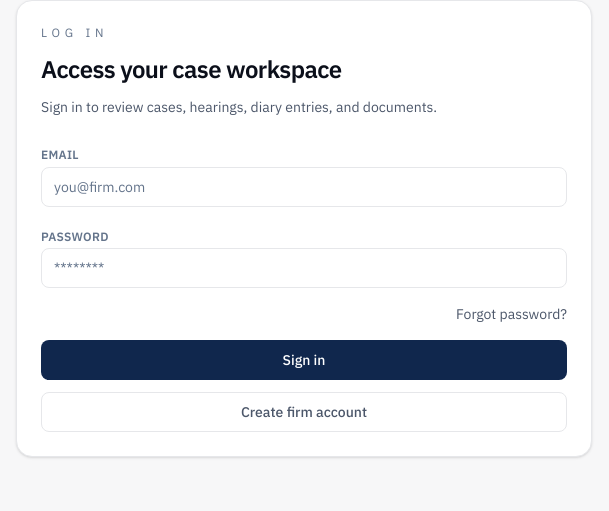
Test case: login page › shows an error and stays on the page when sign-in fails
Type "rahim@example.test" into the field labelled "Email" at [304, 187], box [41, 167, 567, 207]
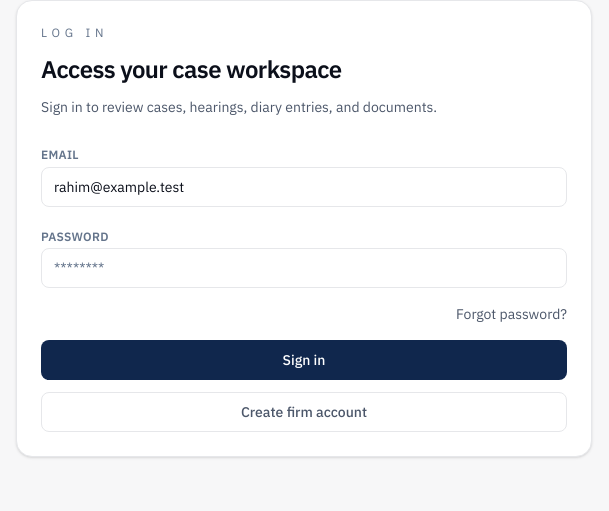
Type "wrong" into the password field labelled "Password" at [304, 268], box [41, 248, 567, 288]
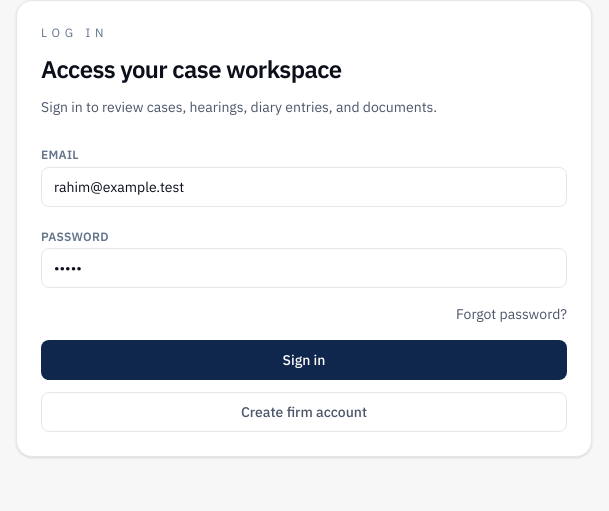
Click the button "Sign in" at [304, 360], box [41, 340, 567, 380]
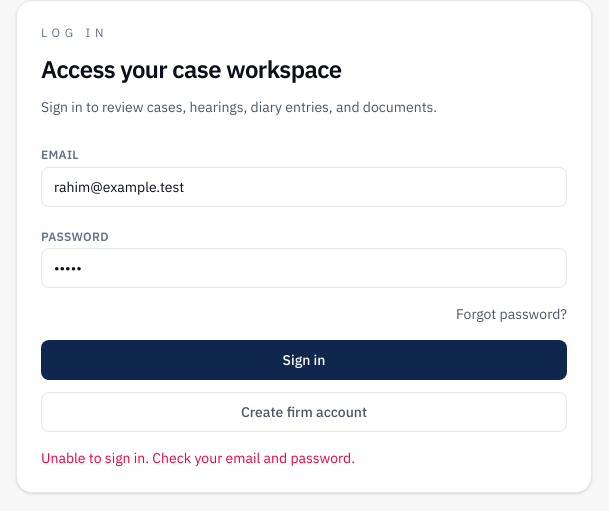
Now the text "Unable to sign in. Check your email and password." is shown, box [41, 449, 355, 467]
